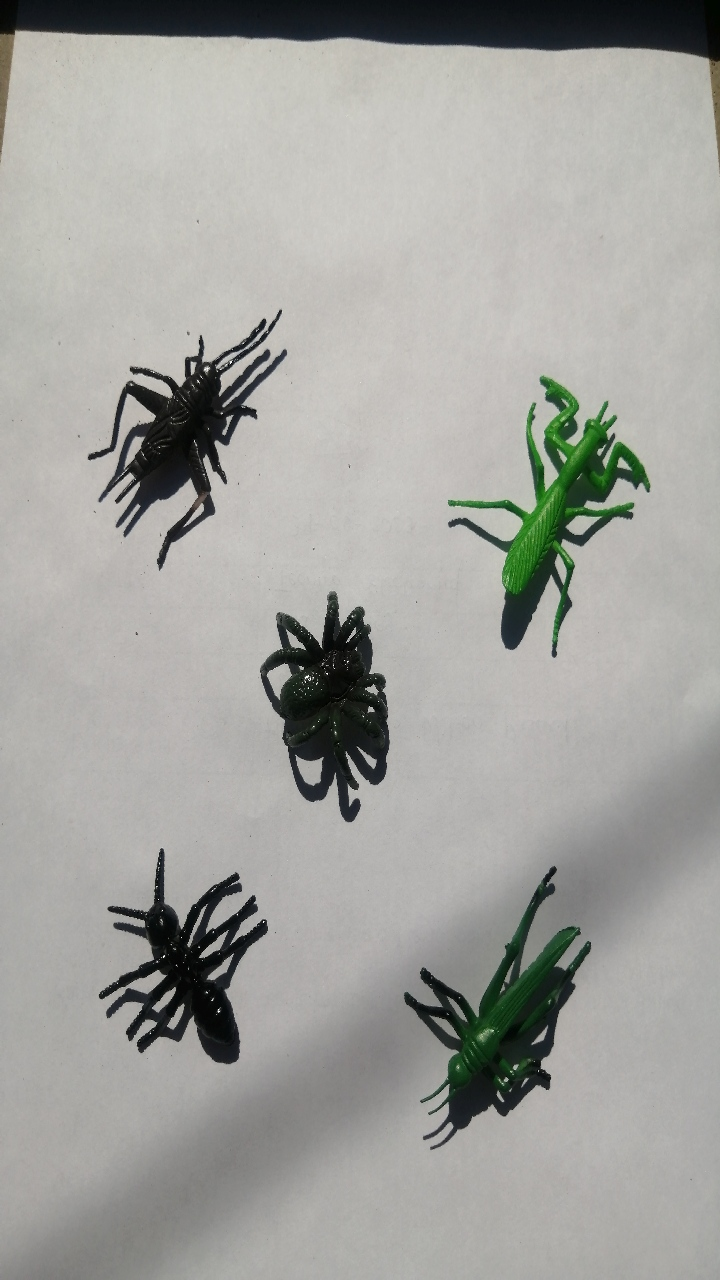intruso: (432, 319, 674, 674), (60, 260, 301, 575), (388, 843, 617, 1166), (78, 828, 280, 1102), (232, 555, 431, 808)
